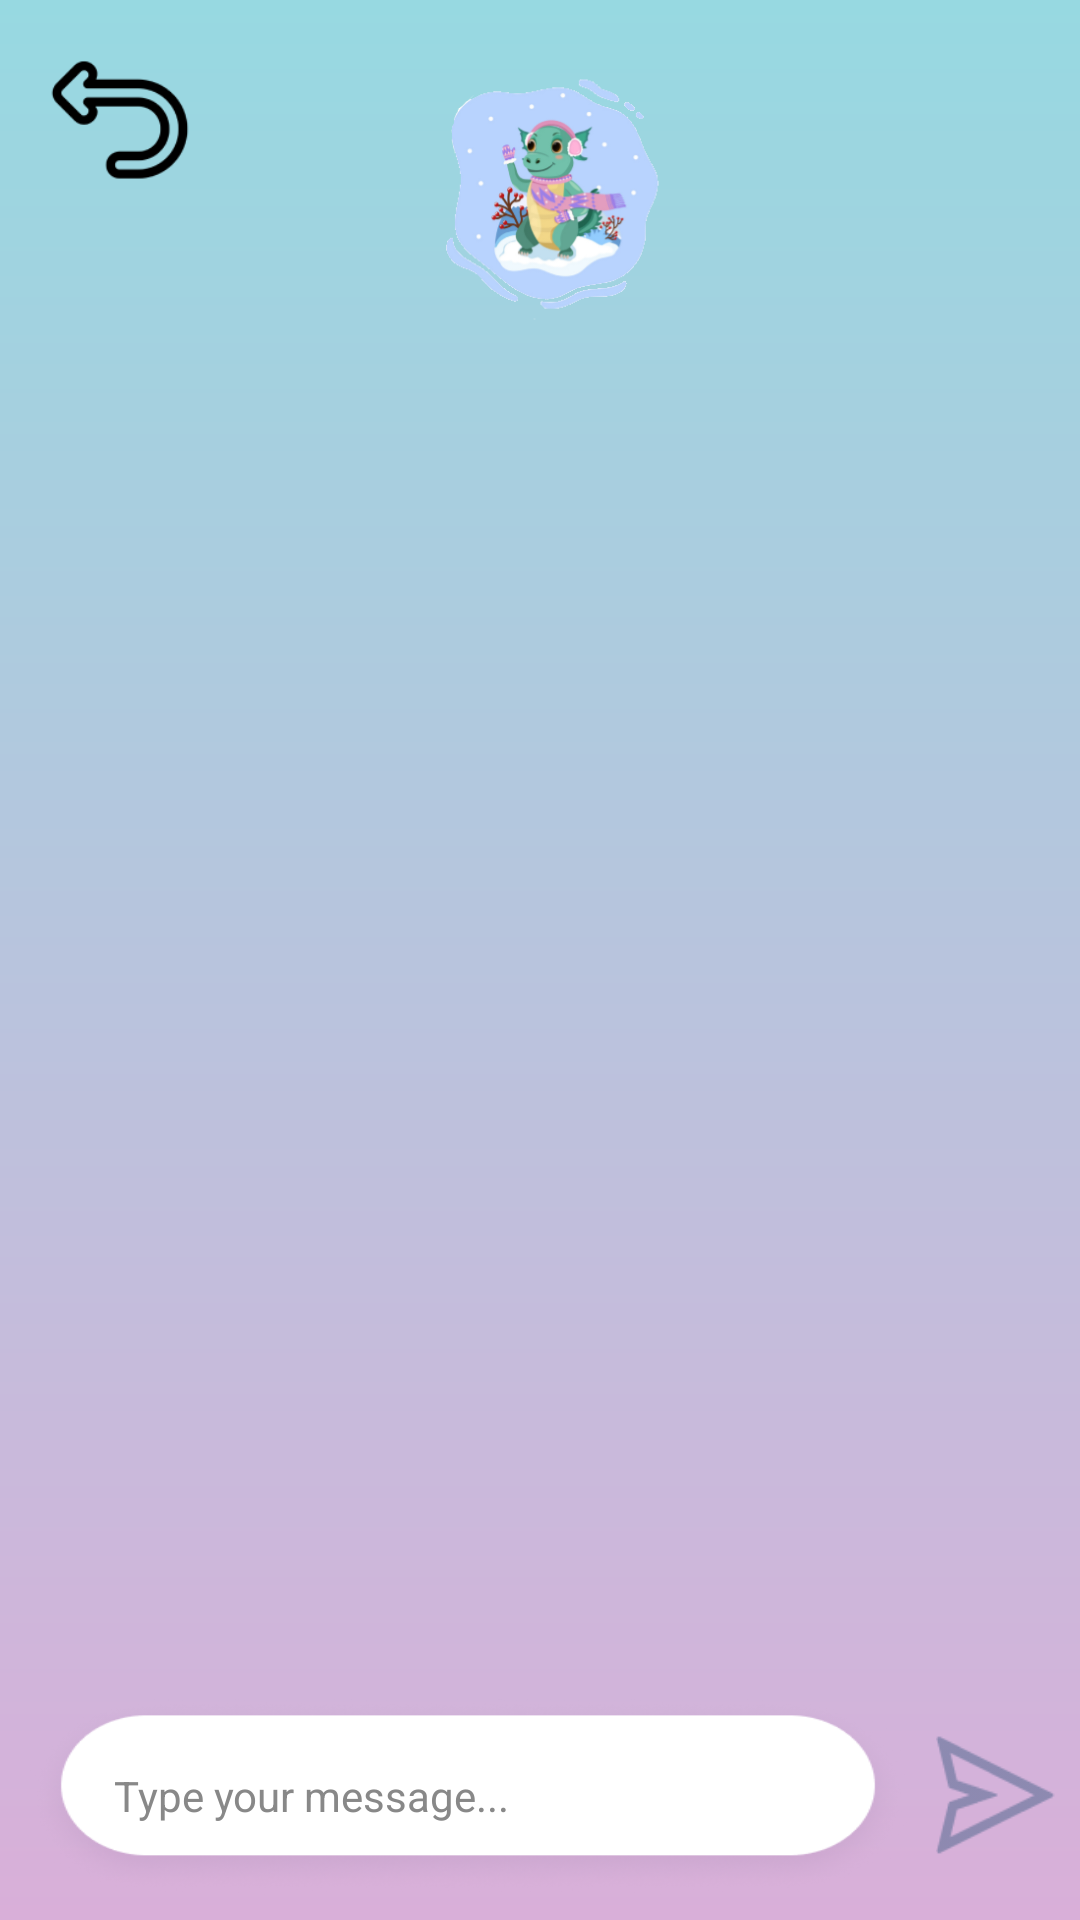

Where to tap for icons on this 1080*1920 app screen, as [x,y]:
back: [119,120]
character: [552,194]
Send message: [994,1795]
